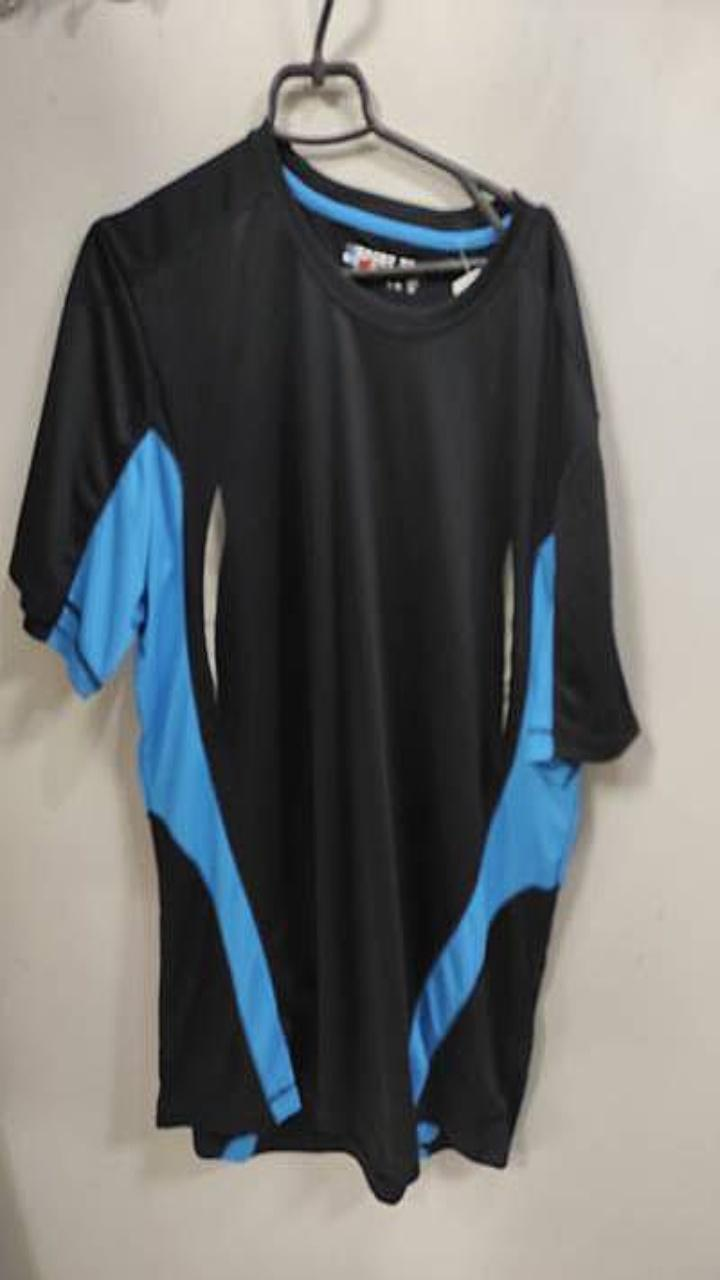T-Shirt: (10, 119, 638, 1202)
